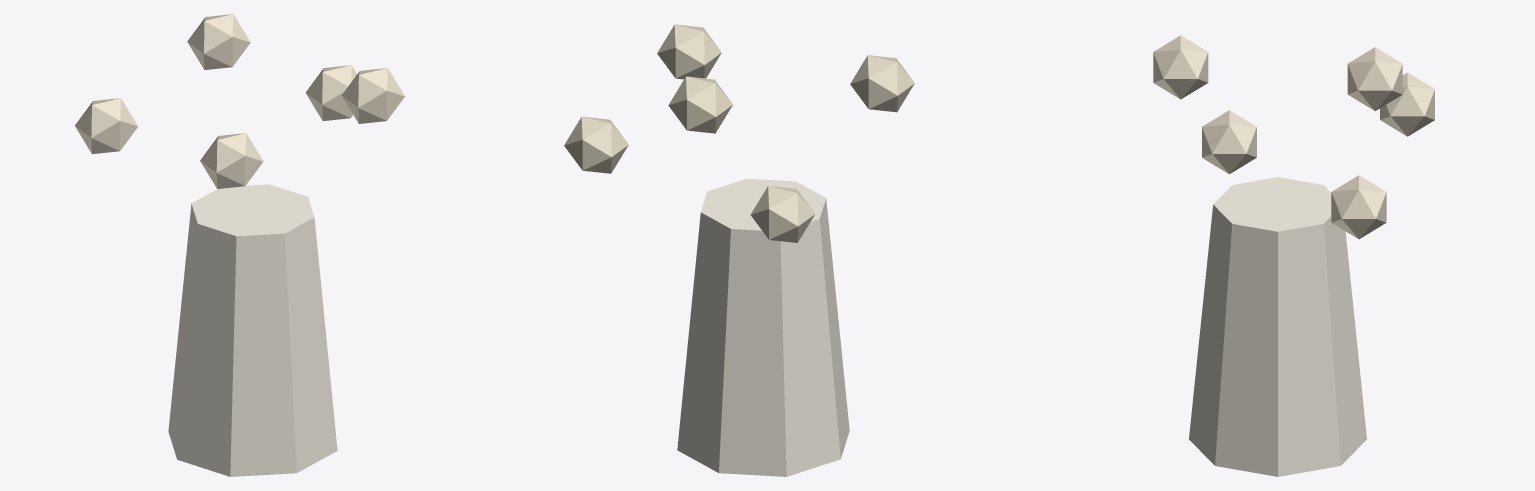
The model's file is M11_MushroomRed.fbx.
The picture shows the model from 3 angles, left to right: view 1: azimuth 30°, elevation 25°; view 2: azimuth 150°, elevation 25°; view 3: azimuth 270°, elevation 25°; orthographic projection.
Visible parts, largest first — view 1: M11_MushroomRed; view 2: M11_MushroomRed; view 3: M11_MushroomRed.
Boxes of the visible parts, bbox=[...] form: M11_MushroomRed: bbox=[75, 14, 404, 476]; M11_MushroomRed: bbox=[564, 24, 914, 476]; M11_MushroomRed: bbox=[1153, 35, 1434, 476].
Size of the model in its own units: 3 by 2.67 by 3.
1 material, 1 textured.
